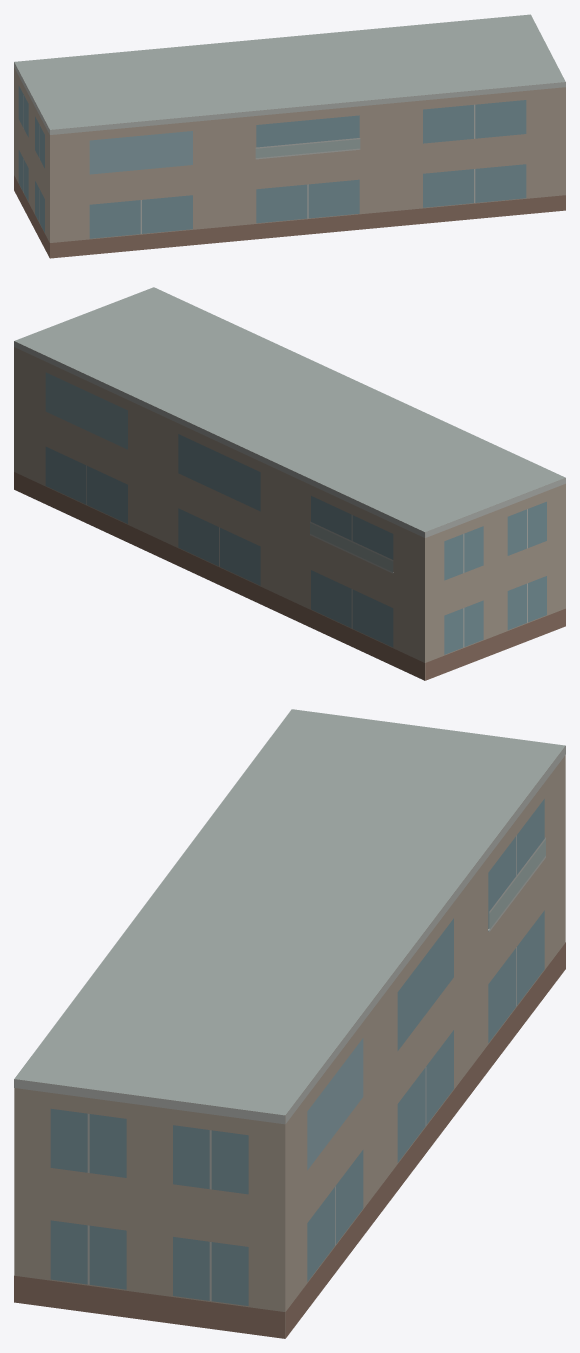
File: survey-upis-32817491.glb
3 renders of one model, top to bottom at view 1: azimuth 30°, elevation 25°; view 2: azimuth 150°, elevation 25°; view 3: azimuth 270°, elevation 25°, orthographic. The views are drawn at different scales.
Parts seen in each view (by area): view 1: survey-upis-32817491.tmp; view 2: survey-upis-32817491.tmp; view 3: survey-upis-32817491.tmp.
Boxes of the visible parts, x1,y1,x2,y2 form: survey-upis-32817491.tmp: (14,14,565,258); survey-upis-32817491.tmp: (14,287,565,680); survey-upis-32817491.tmp: (14,709,565,1338).
Size of the model in its own units: 23.81 by 6.1 by 13.66.
